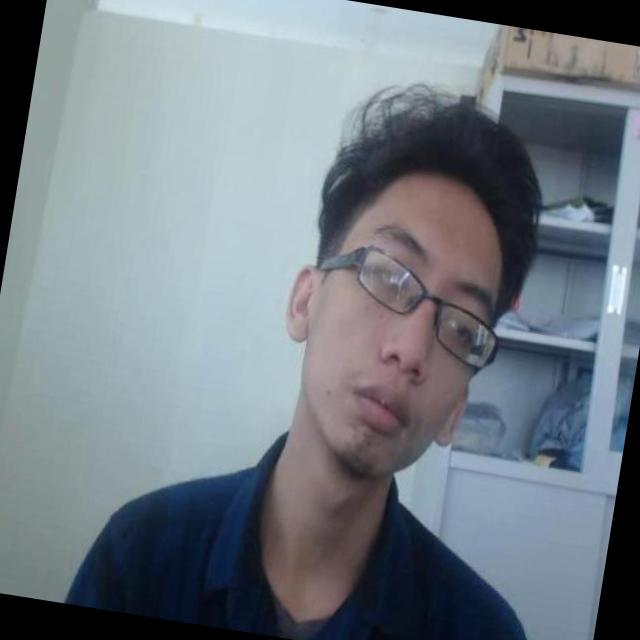bareface: (222, 105, 590, 498)
